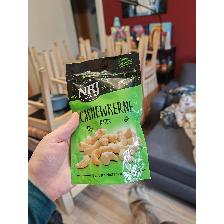Nuss: (66, 52, 152, 186)
